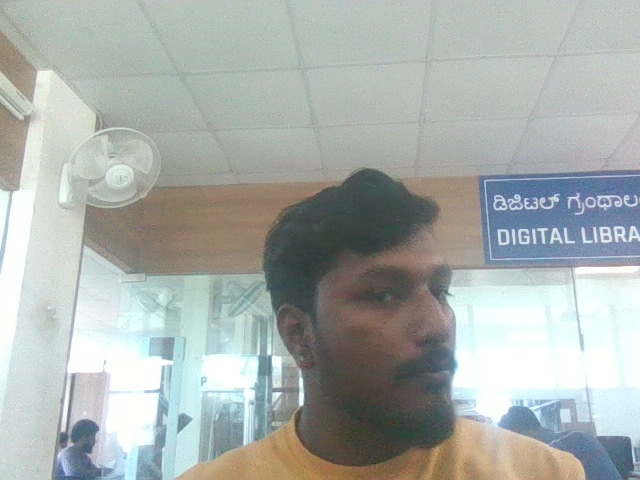real: (281, 148, 483, 435)
